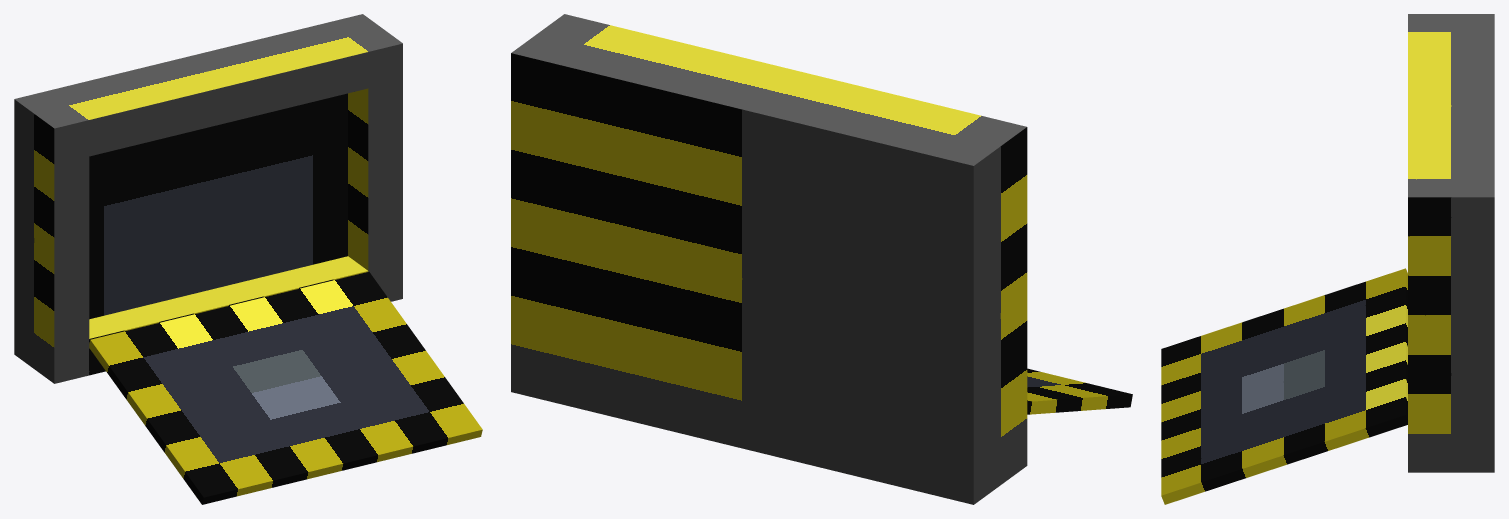
Rendered from door_button_warning_open_empty.glb.
3 views of the same model, side by side, from view 1: azimuth 30°, elevation 25°; view 2: azimuth 150°, elevation 25°; view 3: azimuth 270°, elevation 25° (orthographic). The views are drawn at different scales.
Visible parts, largest first — view 1: Continuous_Housing, Service_Cover; view 2: Continuous_Housing, Service_Cover; view 3: Continuous_Housing, Service_Cover.
Part boxes in pixels (bbox=[...]): Continuous_Housing: bbox=[14, 14, 402, 383]; Service_Cover: bbox=[89, 272, 482, 504]; Continuous_Housing: bbox=[511, 14, 1027, 504]; Service_Cover: bbox=[1027, 368, 1132, 414]; Continuous_Housing: bbox=[1408, 14, 1494, 472]; Service_Cover: bbox=[1161, 268, 1407, 504].
Bounding box in the file's own units: 0.2812 × 0.2331 × 0.2162.
Materials: 1 (1 with a texture image).
